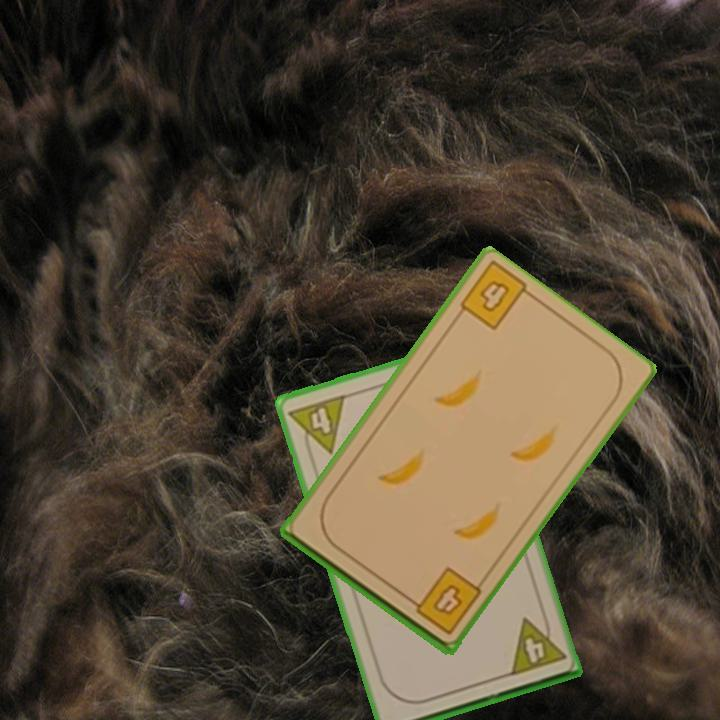4b: (403, 563, 484, 638), (475, 275, 513, 315)
4p: (285, 390, 349, 462), (505, 609, 569, 679)
